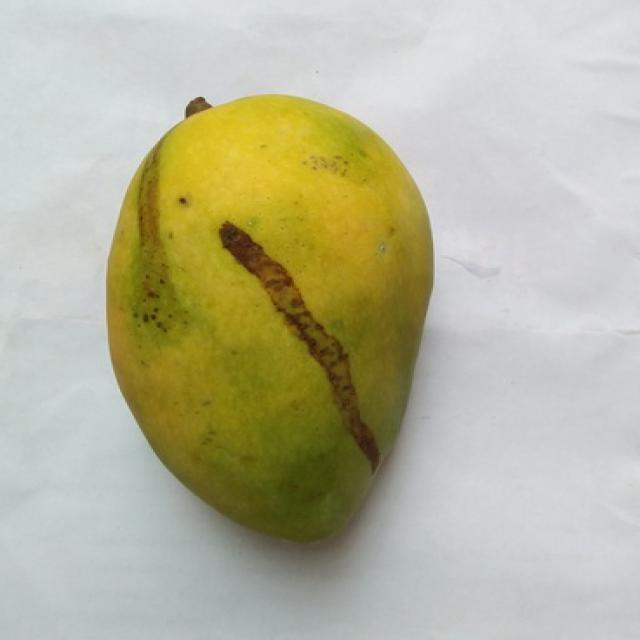Mango: (106, 96, 431, 542)
